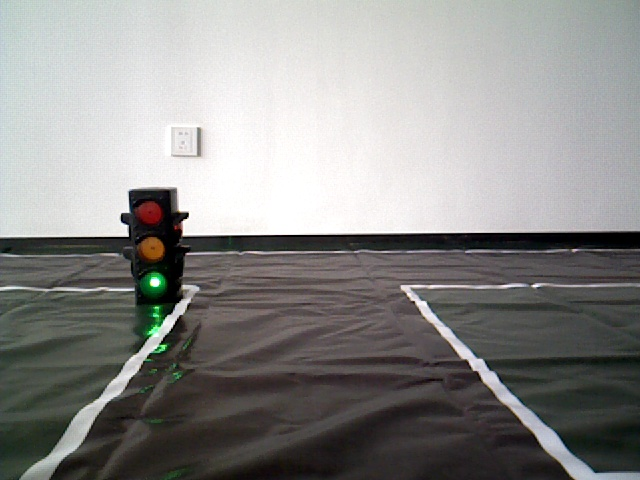green: (134, 191, 178, 293)
